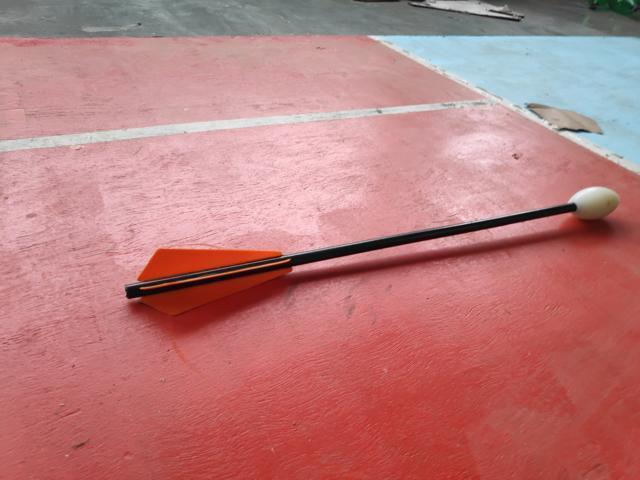Head: (566, 184, 622, 224)
Tail: (118, 245, 294, 320)
